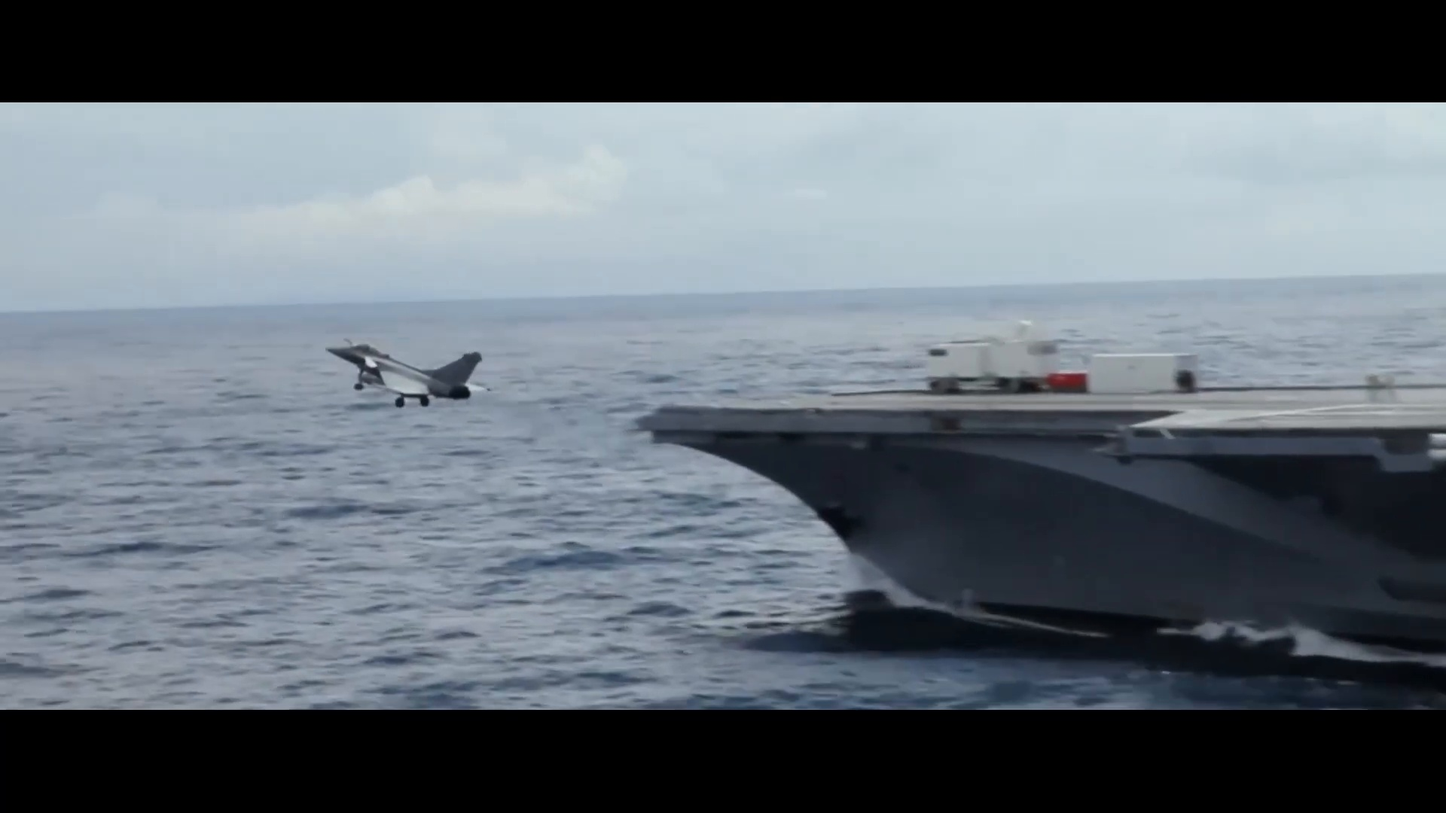Rafale: (320, 326, 498, 419)
